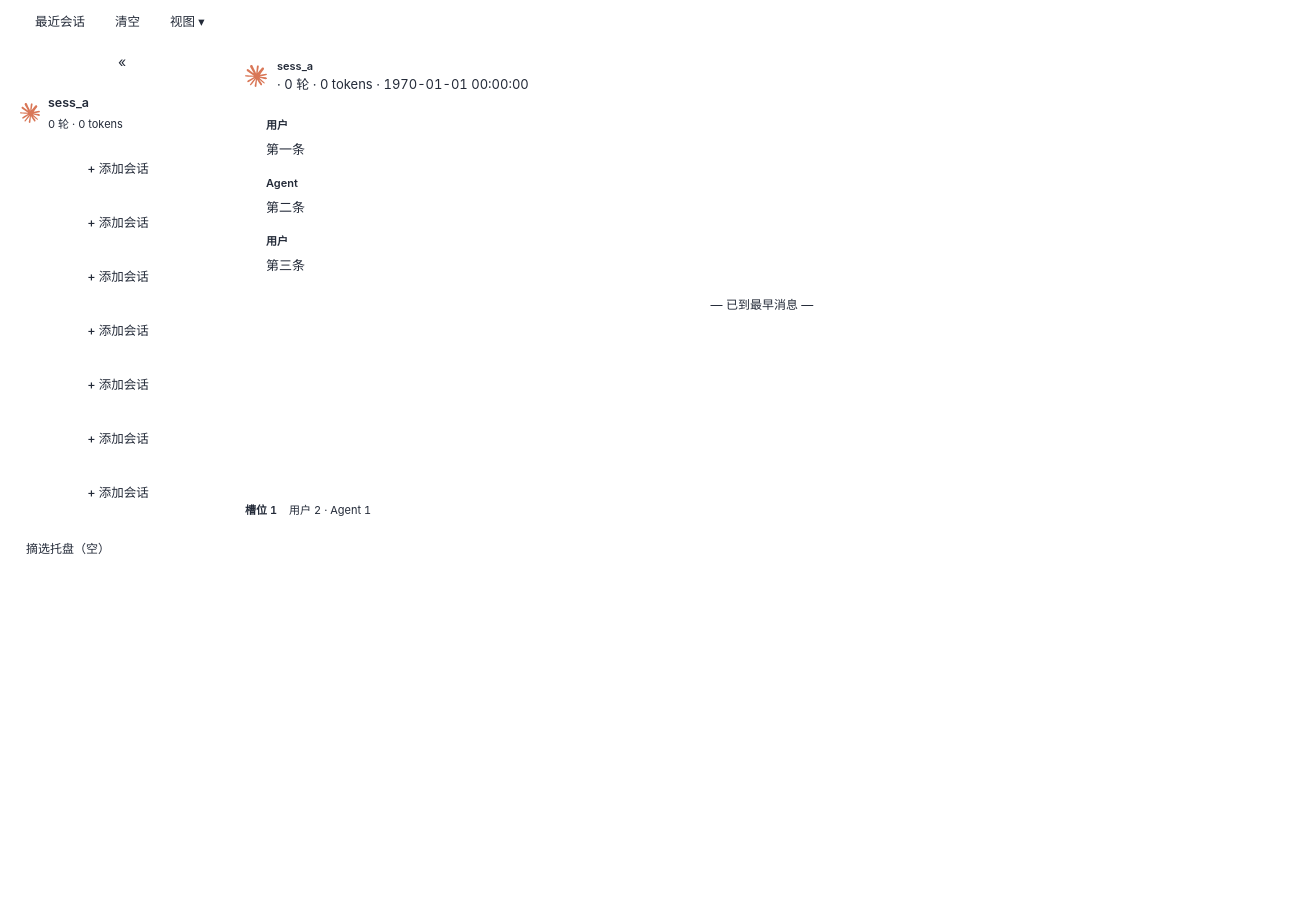
WorkspaceView (t224) › f001 回归：count 不变的 set_session 成员替换触发面板勾选刷新
Check: the text "第一条" is shown, box [266,141,305,157]
Step 1. Click the 1st checkbox labelled "用户 第一条" → [286, 149], box [266,118,305,157]
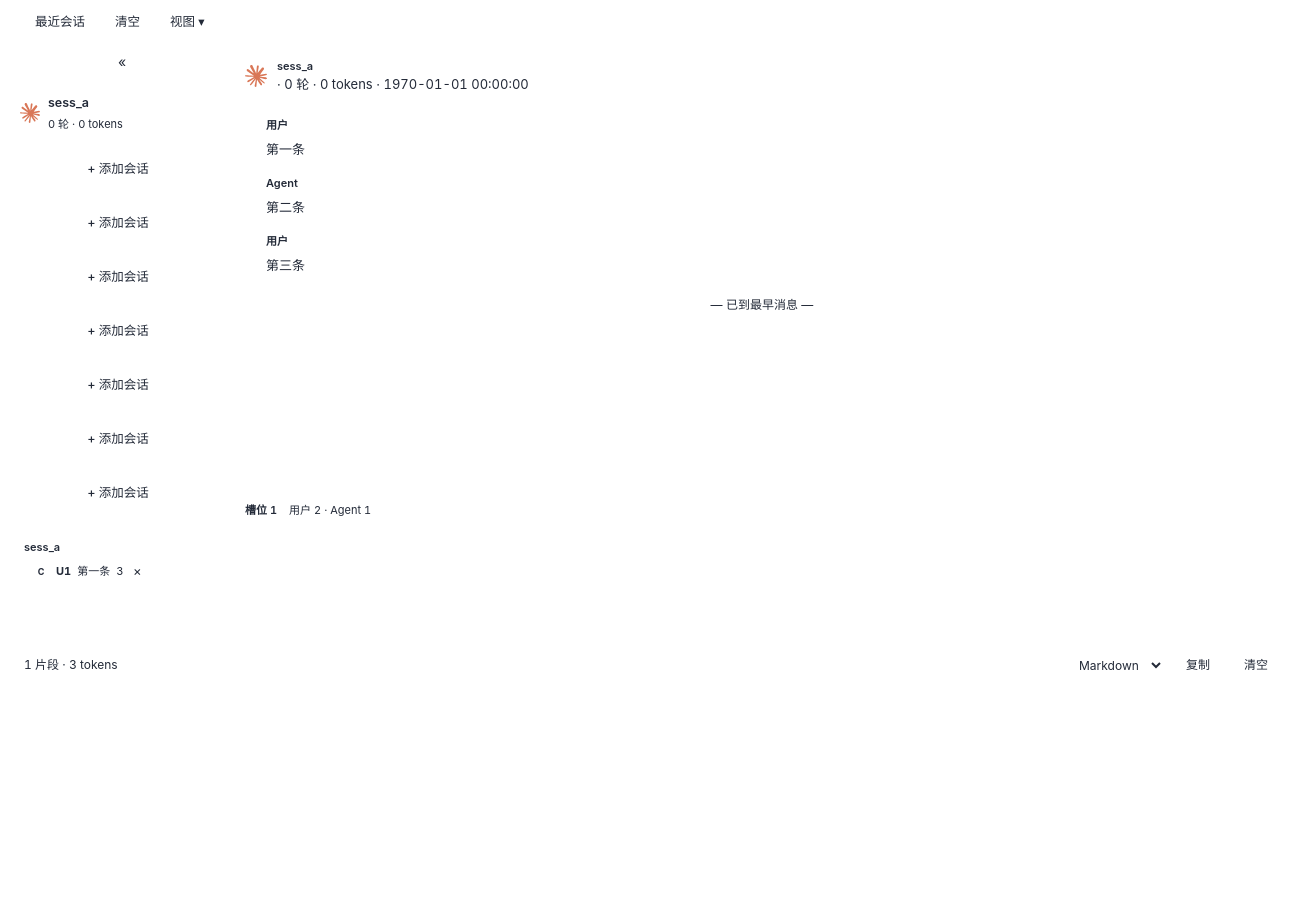
Step 2. Click the 3rd checkbox labelled "用户 第三条" → [286, 265], box [266,234,305,273]
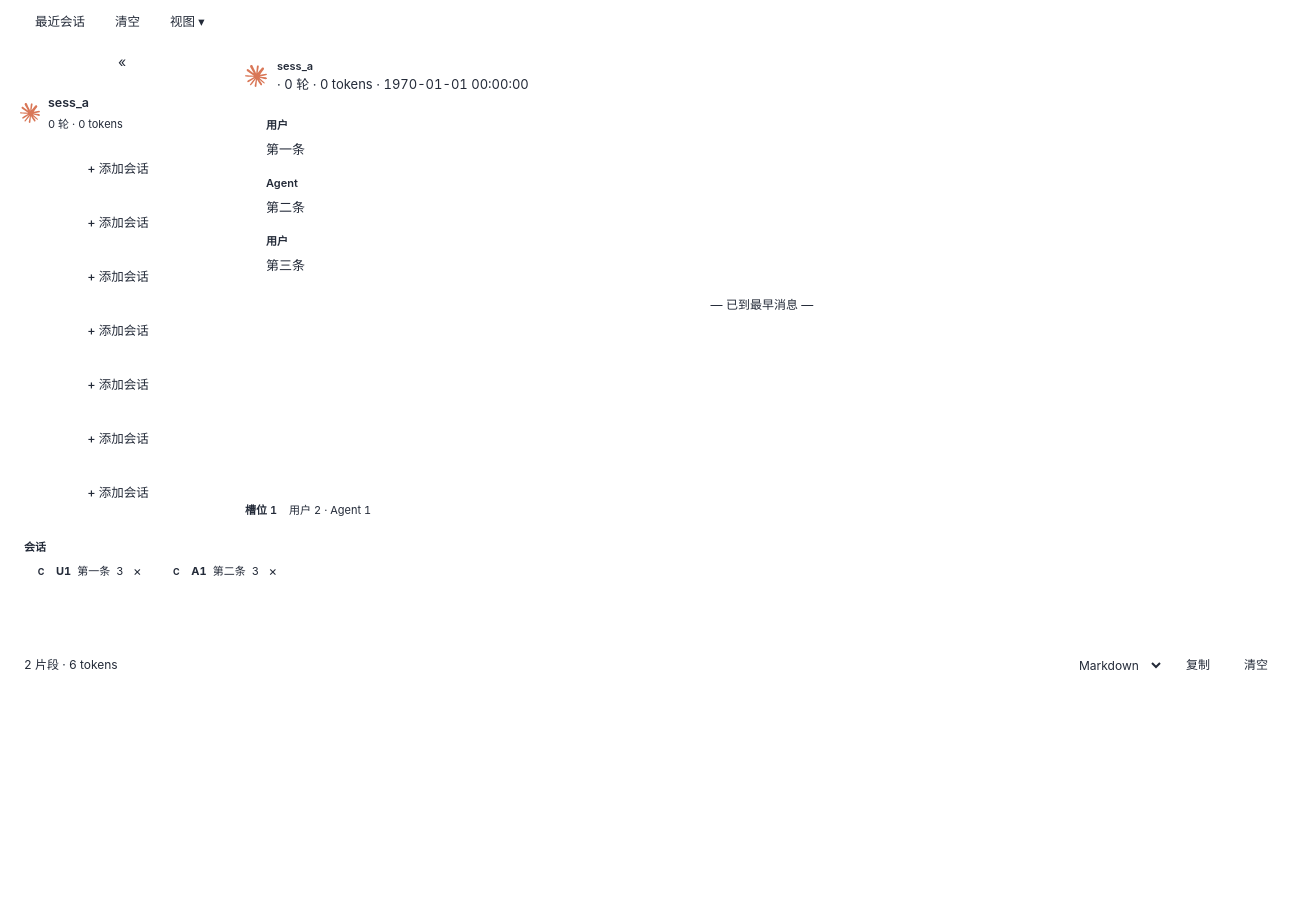
Check: the 1st checkbox labelled "用户 第一条" is checked, box [266,118,305,157]
Check: the text with class "tray-count" shows "2 片段", box [24,656,118,674]
